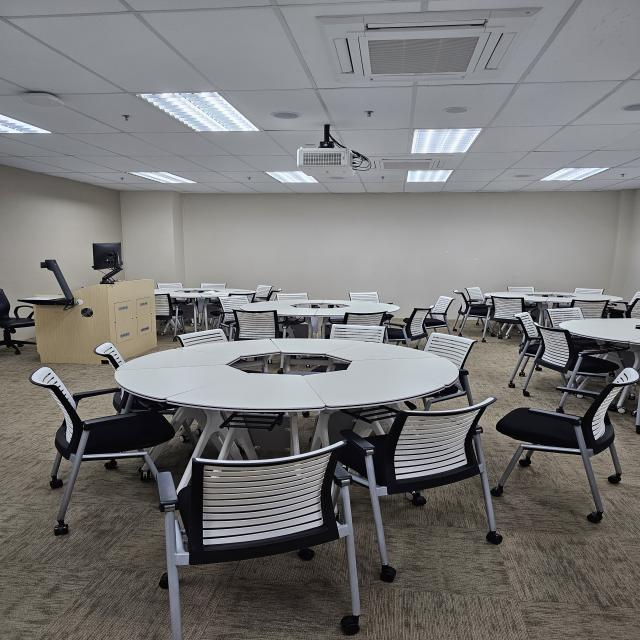obstacle: (111, 334, 463, 468), (152, 448, 369, 633), (502, 362, 638, 522), (32, 277, 159, 365)
